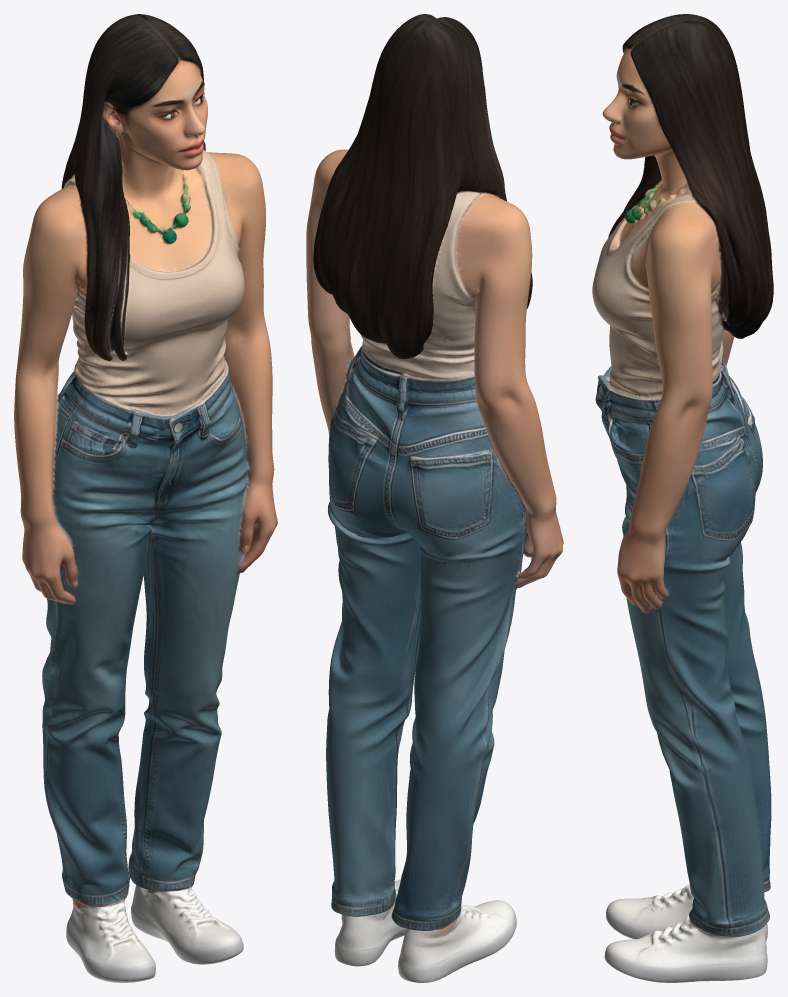
The model's file is casual_confidence_girl.glb.
3 renders of one model, left to right at view 1: azimuth 30°, elevation 25°; view 2: azimuth 150°, elevation 25°; view 3: azimuth 270°, elevation 25°, orthographic.
Visible parts, largest first — view 1: Object_5, Object_6, Object_7; view 2: Object_6, Object_5, Object_7; view 3: Object_6, Object_5, Object_7.
Boxes of the visible parts, <box> form: Object_5: <box>17,19,277,982</box>; Object_6: <box>14,14,265,972</box>; Object_7: <box>19,50,269,956</box>; Object_6: <box>306,14,562,982</box>; Object_5: <box>318,14,563,966</box>; Object_7: <box>306,57,556,928</box>; Object_6: <box>634,14,773,982</box>; Object_5: <box>592,14,736,982</box>; Object_7: <box>644,87,706,949</box>.
Size of the model in its own units: 0.5135 by 1.9 by 0.3342.
Materials: 1 (1 with a texture image).
